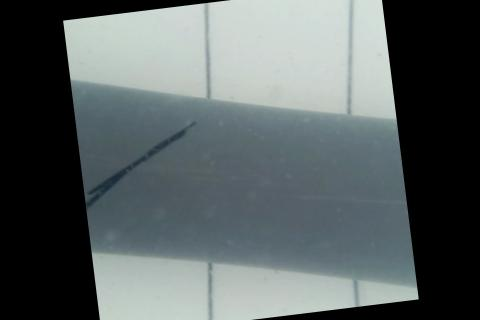keretakan: (76, 121, 206, 212)
